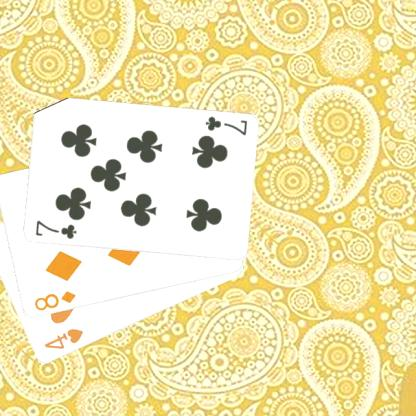4H: (41, 326, 84, 351)
7C: (202, 113, 249, 137), (32, 218, 78, 240)
8D: (31, 288, 77, 312)
